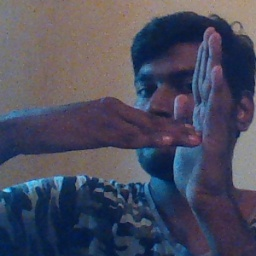Z: (122, 27, 236, 204)
